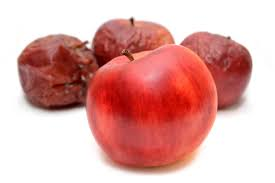apple: (84, 45, 220, 170)
damaged_apple: (183, 31, 259, 112), (18, 36, 93, 111), (90, 17, 177, 79)
